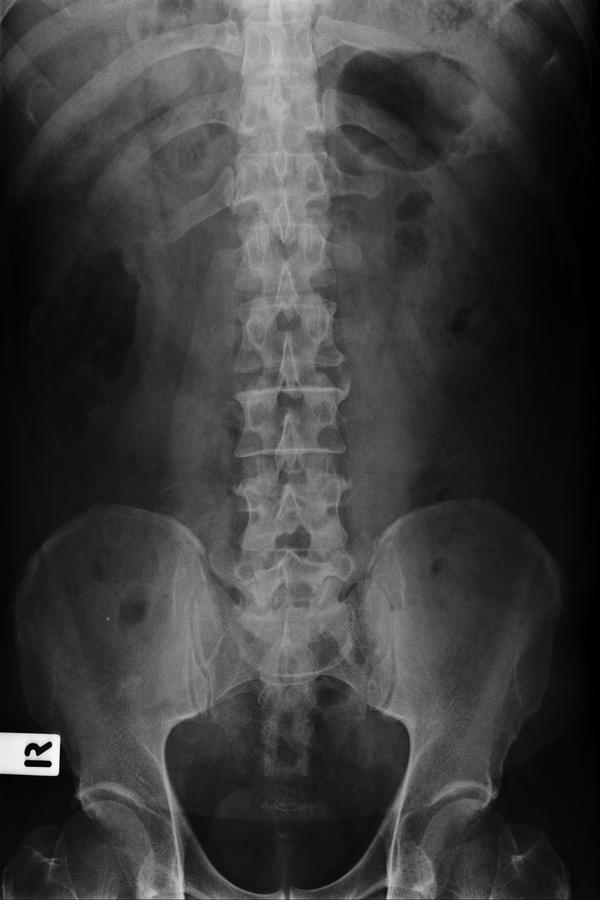lumbar scoliosis: (224, 14, 359, 663)
